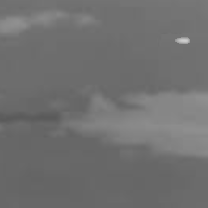Target: (174, 36, 191, 45)
